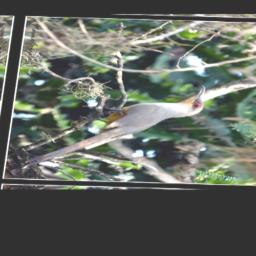Cuckoo: (18, 81, 210, 174)
